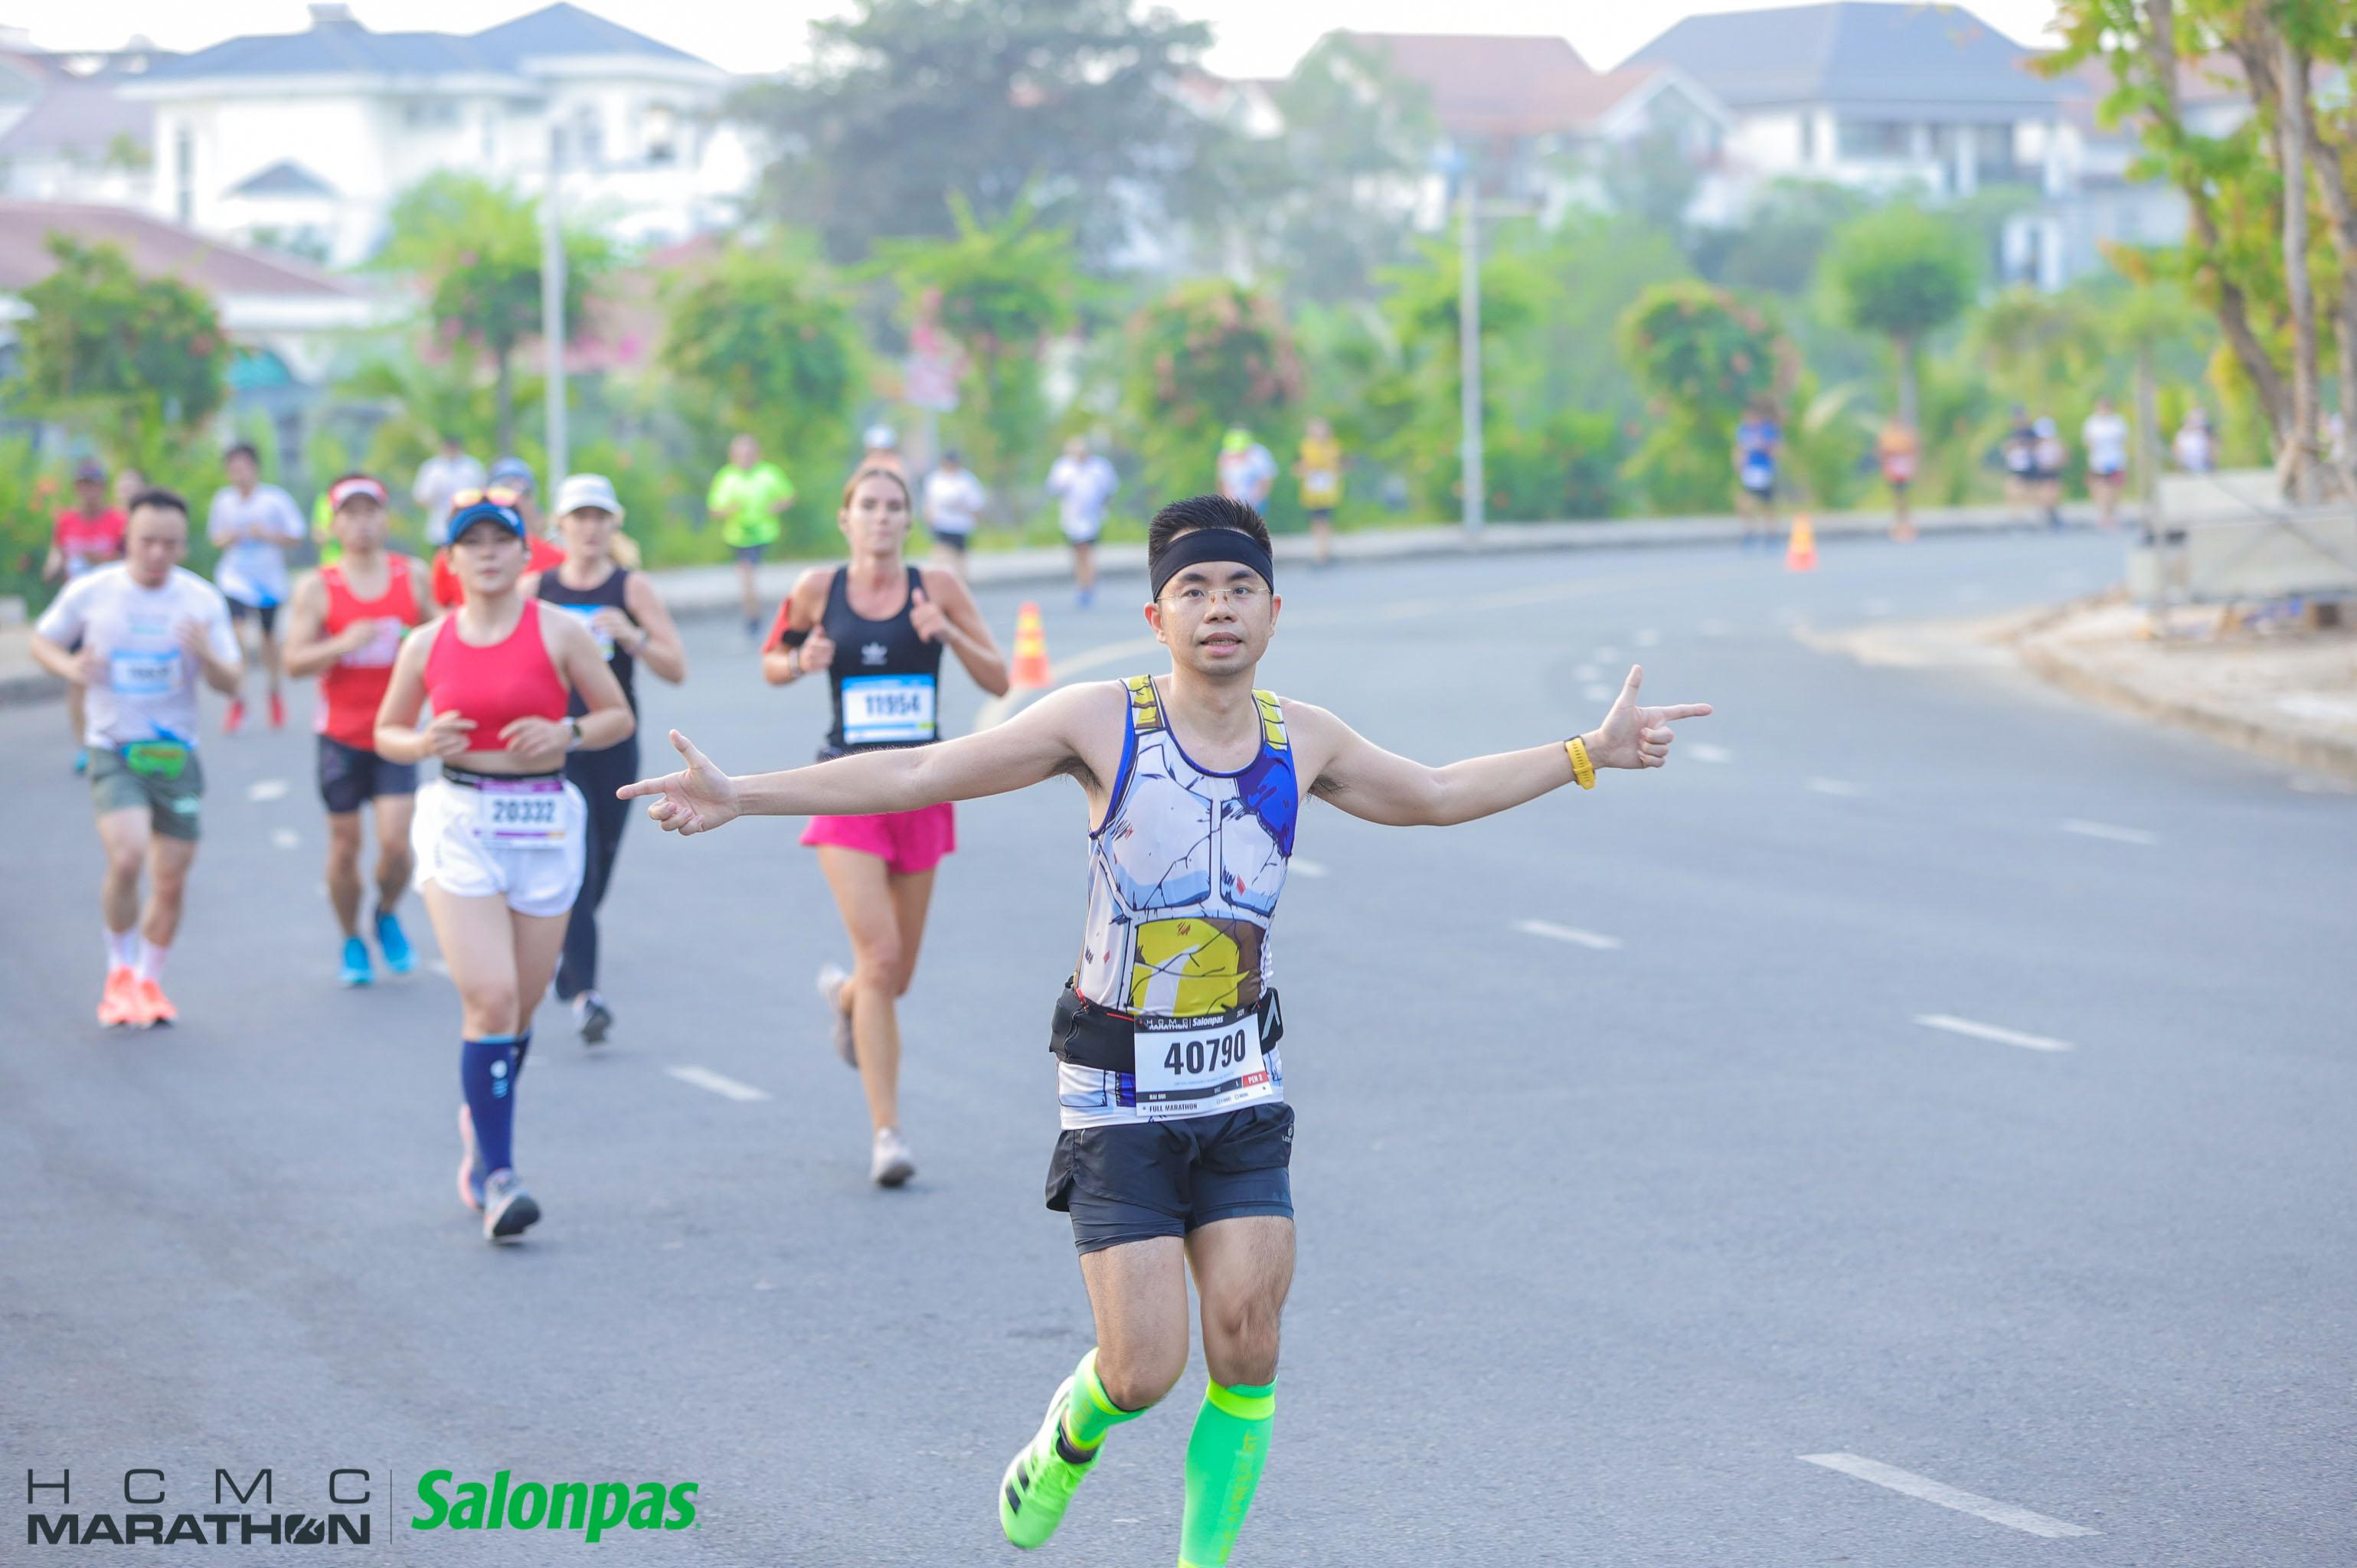bib: (1134, 1018, 1279, 1111), (476, 779, 572, 849), (842, 675, 936, 742), (110, 649, 185, 695)
